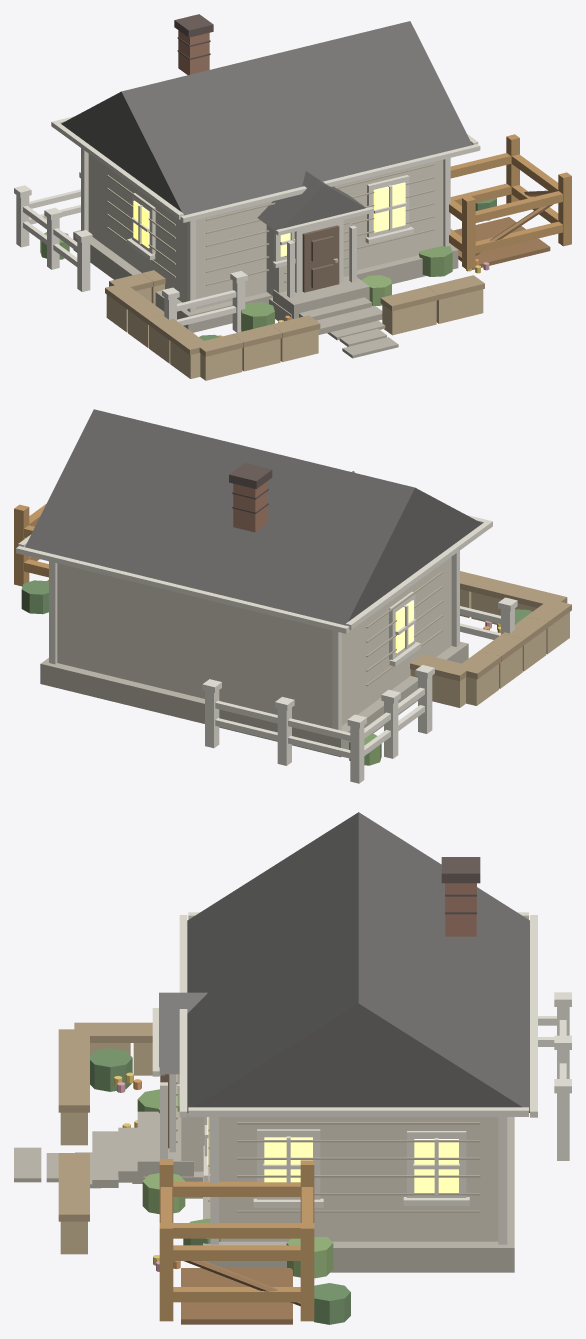
File: house_3.glb
The picture shows the model from 3 angles, top to bottom: view 1: azimuth 30°, elevation 25°; view 2: azimuth 150°, elevation 25°; view 3: azimuth 270°, elevation 25°; orthographic projection. The views are drawn at different scales.
Parts seen in each view (by area): view 1: MainRoof_dark_charcoal_gable, MainWalls_weathered_cream_core, Foundation_main_stone_slab, EntryRoof_small_dark_gable, MainRoof_front_fascia, PorchLanding_stone, WoodenGardenFrame_dark_inner_soil, FrontDoor_weathered_brown, RetainingWall_front_right_stone_block_0, MainRoof_left_rake_trim, EntryVolume_weathered_cream, Window_front_right_glow_glass_glow (+54 smaller); view 2: MainRoof_dark_charcoal_gable, MainWalls_weathered_cream_core, Foundation_main_stone_slab, MainRoof_back_fascia, MainRoof_left_rake_trim, Chimney_brick_stack, FenceRail_back_left_upper_rail, FenceRail_back_left_lower_rail, CornerTrim_2, WoodenGardenFrame_corner_post_1, RetainingWall_left_back_stub_stone_block_0, CornerTrim_3 (+24 smaller); view 3: MainRoof_dark_charcoal_gable, MainWalls_weathered_cream_core, Foundation_main_stone_slab, WoodenGardenFrame_dark_inner_soil, MainRoof_right_rake_trim, PorchLanding_stone, EntryRoof_small_dark_gable, WoodenGardenFrame_right_rail_y0.92, WoodenGardenFrame_left_rail_y0.45, WoodenGardenFrame_left_rail_y0.92, WoodenGardenFrame_right_rail_y0.45, Window_right_side_back_glow_glass_glow (+35 smaller).
Boxes of the visible parts, x1,y1,x2,y2 form: MainRoof_dark_charcoal_gable: [61, 21, 472, 215]; MainWalls_weathered_cream_core: [88, 154, 443, 309]; Foundation_main_stone_slab: [73, 230, 458, 332]; EntryRoof_small_dark_gable: [257, 171, 365, 231]; MainRoof_front_fascia: [180, 144, 480, 222]; PorchLanding_stone: [273, 276, 369, 318]; WoodenGardenFrame_dark_inner_soil: [451, 217, 550, 269]; FrontDoor_weathered_brown: [302, 225, 339, 292]; RetainingWall_front_right_stone_block_0: [382, 300, 436, 335]; MainRoof_left_rake_trim: [53, 122, 183, 219]; EntryVolume_weathered_cream: [266, 218, 352, 295]; Window_front_right_glow_glass_glow: [373, 182, 405, 232]; MainRoof_dark_charcoal_gable: [25, 409, 482, 625]; MainWalls_weathered_cream_core: [57, 557, 451, 728]; Foundation_main_stone_slab: [40, 641, 468, 757]; MainRoof_back_fascia: [16, 546, 349, 633]; MainRoof_left_rake_trim: [345, 521, 490, 629]; Chimney_brick_stack: [233, 481, 267, 532]; FenceRail_back_left_upper_rail: [215, 700, 350, 741]; FenceRail_back_left_lower_rail: [215, 718, 350, 758]; CornerTrim_2: [332, 630, 341, 730]; WoodenGardenFrame_corner_post_1: [14, 504, 29, 586]; RetainingWall_left_back_stub_stone_block_0: [432, 675, 465, 707]; CornerTrim_3: [49, 561, 57, 664]; MainRoof_dark_charcoal_gable: [187, 812, 529, 1112]; MainWalls_weathered_cream_core: [219, 1117, 498, 1241]; Foundation_main_stone_slab: [203, 1117, 514, 1272]; WoodenGardenFrame_dark_inner_soil: [181, 1268, 292, 1324]; MainRoof_right_rake_trim: [188, 1107, 528, 1116]; PorchLanding_stone: [137, 1111, 193, 1181]; EntryRoof_small_dark_gable: [159, 992, 207, 1074]; WoodenGardenFrame_right_rail_y0.92: [173, 1245, 300, 1260]; WoodenGardenFrame_left_rail_y0.45: [173, 1223, 300, 1238]; WoodenGardenFrame_left_rail_y0.92: [173, 1181, 300, 1196]; WoodenGardenFrame_right_rail_y0.45: [173, 1287, 300, 1302]; Window_right_side_back_glow_glass_glow: [414, 1139, 458, 1192].
Bounding box in the file's own units: 6.65 × 3.35 × 5.73.
